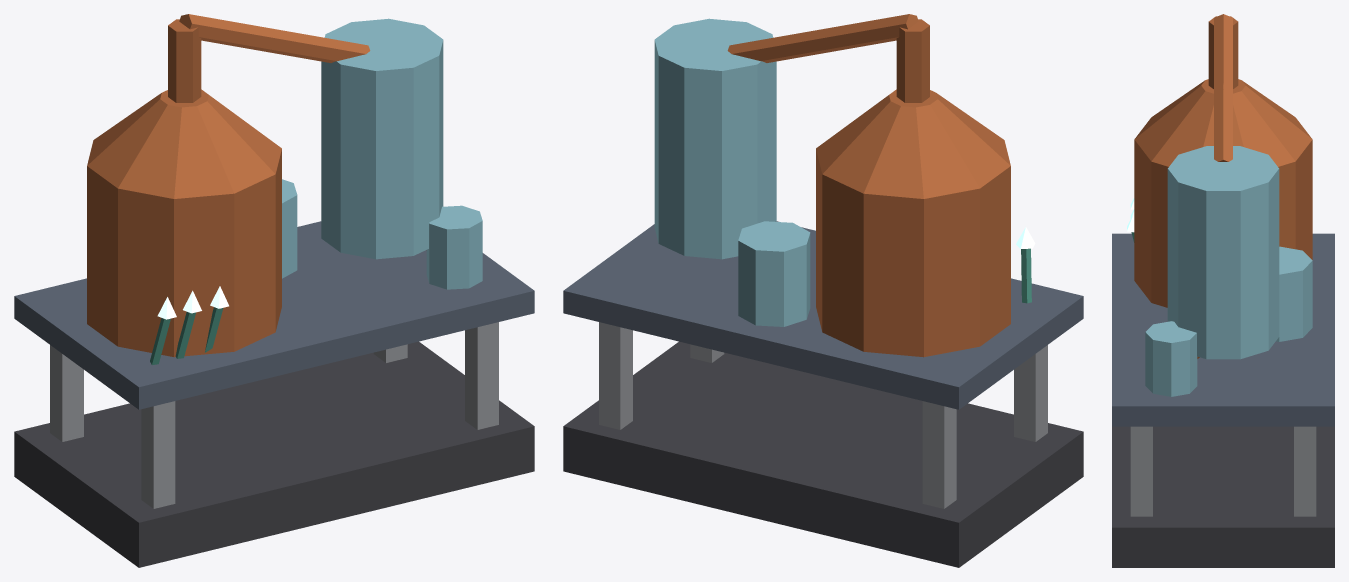
File: bio_still.glb
The picture shows the model from 3 angles, left to right: view 1: azimuth 30°, elevation 25°; view 2: azimuth 150°, elevation 25°; view 3: azimuth 270°, elevation 25°; orthographic projection. The views are drawn at different scales.
Visible parts, largest first — view 1: PROP_BioStill_Mesh; view 2: PROP_BioStill_Mesh; view 3: PROP_BioStill_Mesh.
Part boxes in pixels (left/top/right/bottom): PROP_BioStill_Mesh: left=14, top=14, right=534, bottom=567; PROP_BioStill_Mesh: left=563, top=14, right=1083, bottom=567; PROP_BioStill_Mesh: left=1112, top=14, right=1334, bottom=567.
Size of the model in its own units: 1.1 by 1.28 by 0.6.
